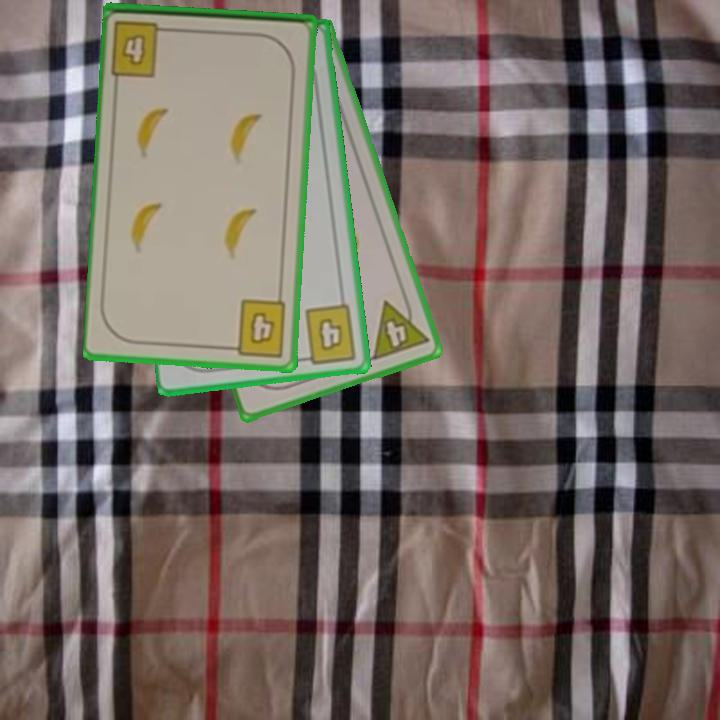4b: (108, 16, 176, 80), (296, 301, 360, 367), (224, 296, 289, 360)
4p: (368, 291, 432, 364)
